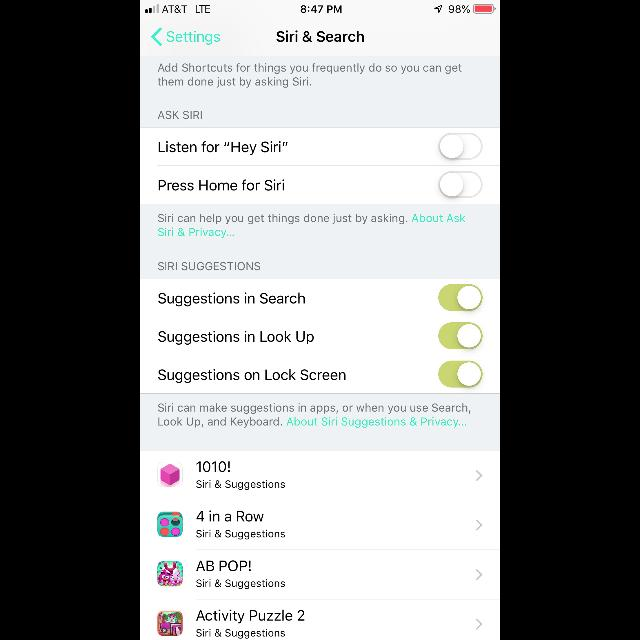icon: (152, 28, 162, 46), (476, 618, 482, 630), (476, 471, 482, 482), (476, 520, 482, 530), (476, 570, 482, 580)
image: (158, 462, 182, 488), (158, 610, 182, 636), (158, 512, 182, 536), (158, 562, 182, 586)
switch: (439, 284, 483, 312), (438, 322, 482, 350), (439, 360, 483, 388), (439, 134, 483, 160), (439, 172, 483, 198)
text: (158, 404, 470, 428), (158, 214, 466, 238), (158, 64, 462, 88), (158, 369, 346, 383), (158, 331, 314, 345), (159, 293, 305, 307), (158, 141, 288, 155), (197, 610, 305, 624), (159, 180, 285, 190), (276, 31, 364, 43), (197, 579, 286, 589), (197, 629, 286, 639), (197, 529, 286, 539), (197, 480, 285, 490), (158, 262, 260, 270), (196, 511, 264, 522), (167, 31, 220, 45), (196, 560, 252, 572), (158, 111, 202, 119), (197, 462, 230, 472)
uppertaskbar: (140, 0, 500, 14)
